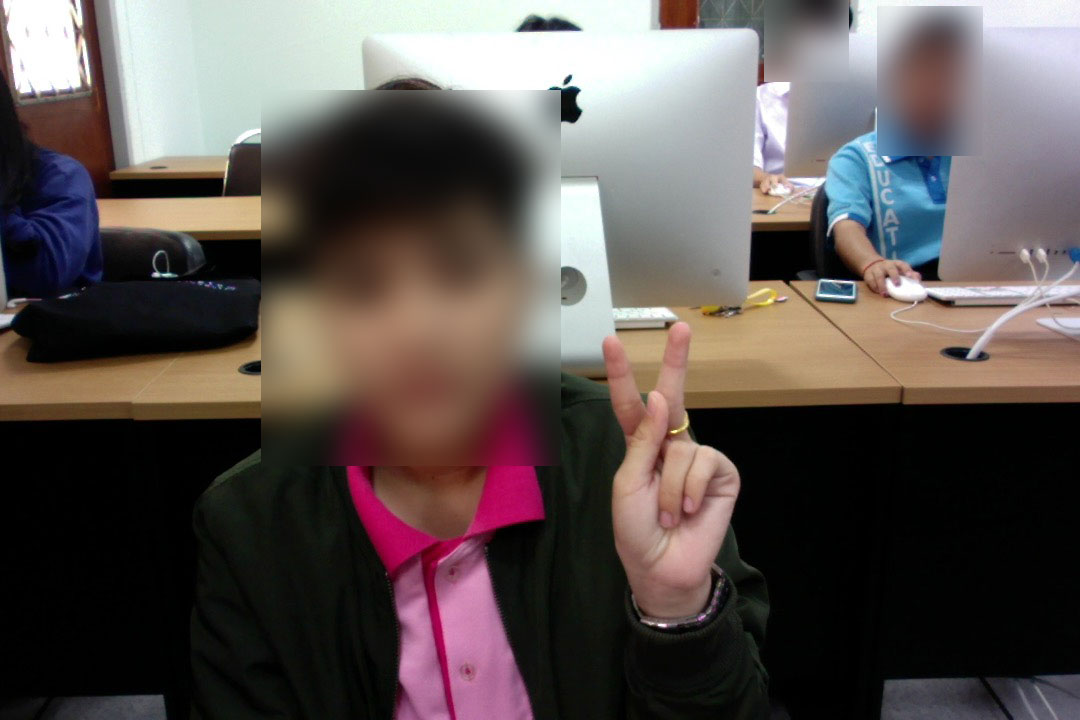ko: (598, 318, 743, 621)
